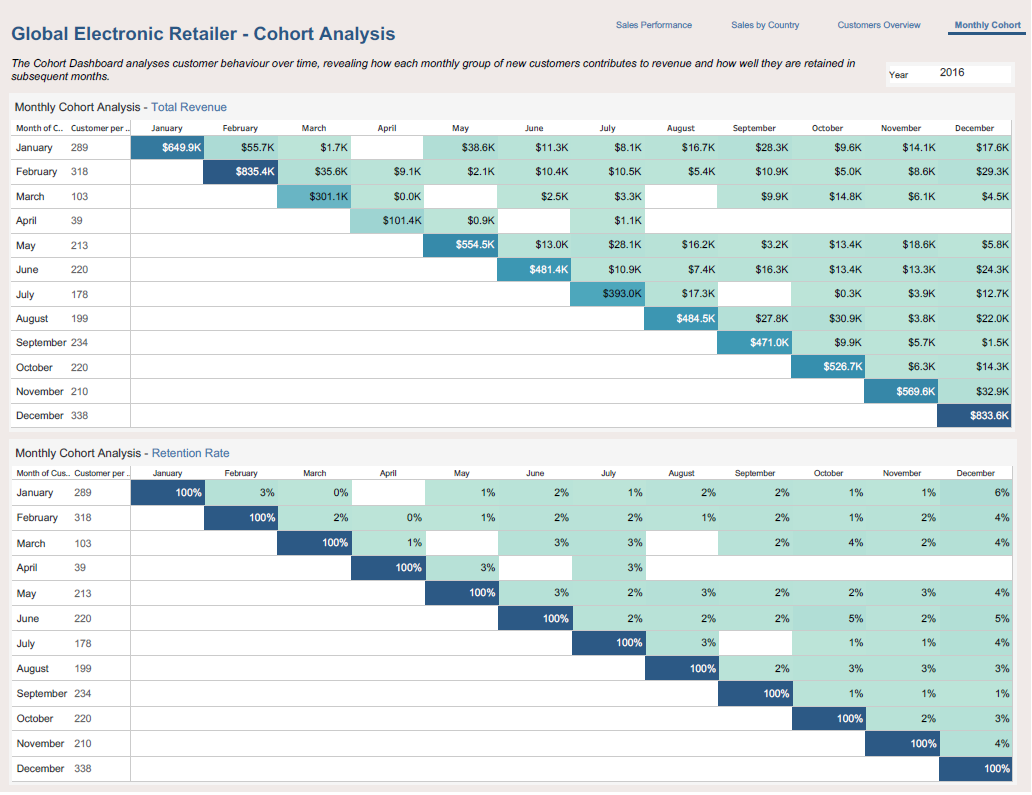

The page's visual inventory and layout, read from the dashboard file:
{"tool":"tableau","page":{"name":"Monthly Cohort Analysis","canvas":[1500,1150],"ordinal":1},"visuals":[{"type":"parameter","param":"[Parameters].[YEAR Parameter]","box":[1291,21,186,54]},{"type":"text","box":[15,26,1251,99]},{"type":"worksheet","title":"Monthly Cohort Analysis - Total Revenue","mark":"Square","rows":["Calculation_2140054277180674048","Calculation_2140054277184098307"],"cols":["Order_Date_Formatted"],"box":[15,135,1463,491]},{"type":"worksheet","title":"Monthly Cohort Analysis - Retention Rate","mark":"Square","rows":["Calculation_2140054277180674048","Calculation_2140054277184098307"],"cols":["Order_Date_Formatted"],"box":[16,638,1464,502]}]}

Visuals, with their boxes in screenshot pixels (x1, y1, x2, y2), scaled from the page's 1500x1150 canvas onto the 1032x795 screenshot:
parameter: (888, 15, 1016, 52)
text: (10, 18, 871, 86)
"Monthly Cohort Analysis - Total Revenue" worksheet (Square marks): (10, 93, 1017, 433)
"Monthly Cohort Analysis - Retention Rate" worksheet (Square marks): (11, 441, 1018, 788)
